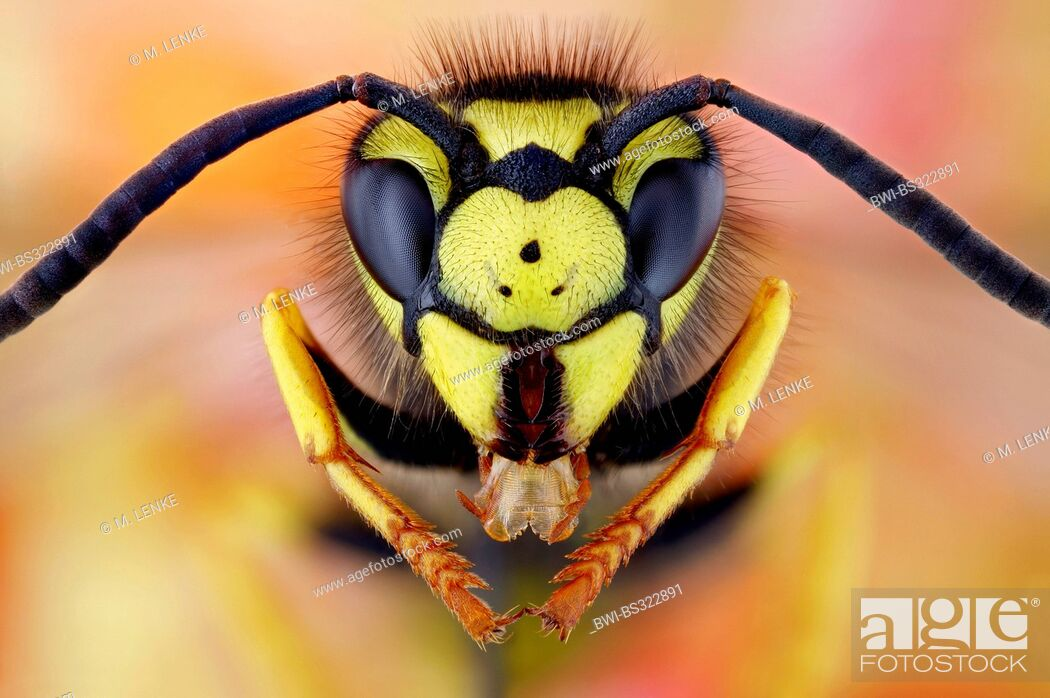chax: (216, 19, 856, 648)
